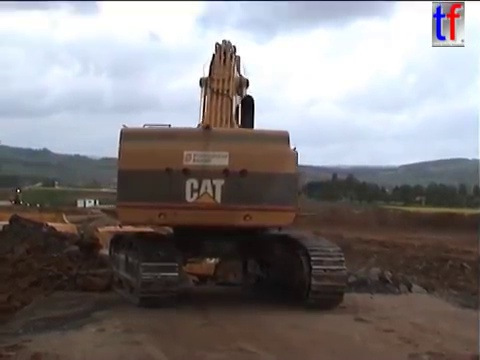excavator: (101, 36, 353, 312)
truck: (1, 216, 151, 327), (178, 215, 295, 286), (90, 221, 181, 303)
